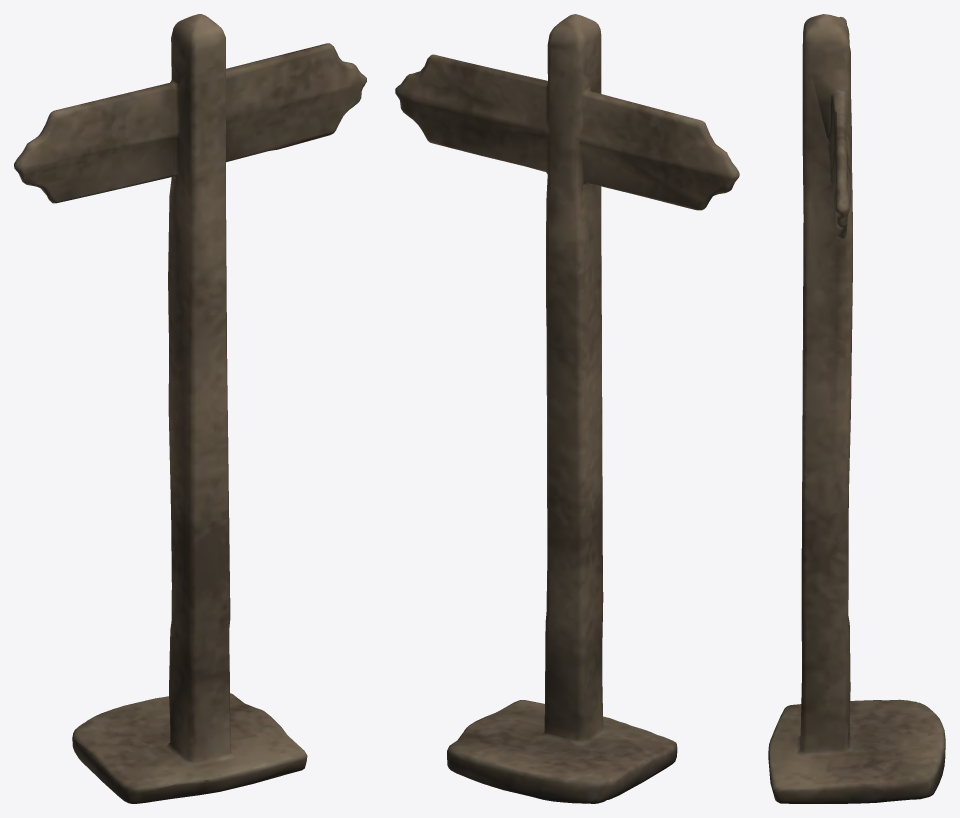
File: old-wood-signpost-v001.glb
3 views of the same model, side by side, from view 1: azimuth 30°, elevation 25°; view 2: azimuth 150°, elevation 25°; view 3: azimuth 270°, elevation 25° (orthographic). The views are drawn at different scales.
Parts seen in each view (by area): view 1: old-wood-signpost; view 2: old-wood-signpost; view 3: old-wood-signpost.
Part boxes in pixels (<box>): old-wood-signpost: <box>14,14,366,803</box>; old-wood-signpost: <box>395,14,739,803</box>; old-wood-signpost: <box>768,14,945,803</box>.
Bounding box in the file's own units: 0.9068 × 1.87 × 0.401.
Materials: 1 (1 with a texture image).
